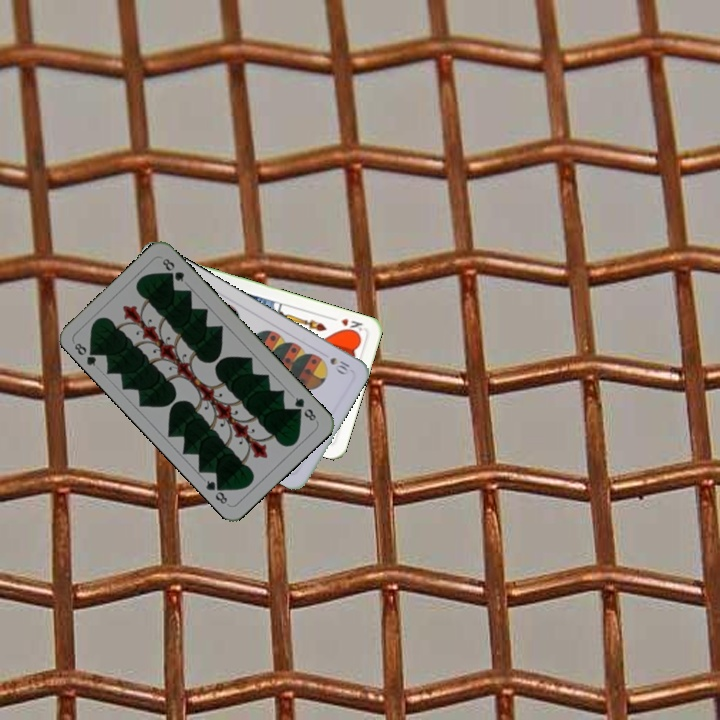G8: (70, 339, 101, 369), (290, 393, 319, 424)
HK: (327, 313, 365, 337)
S10: (325, 353, 352, 377)
